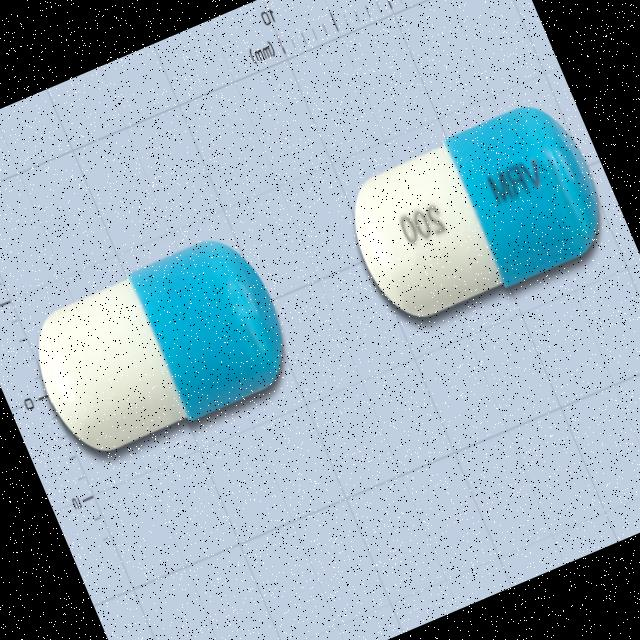Viramid Cap-200mg: (330, 88, 619, 338), (14, 223, 304, 472)
